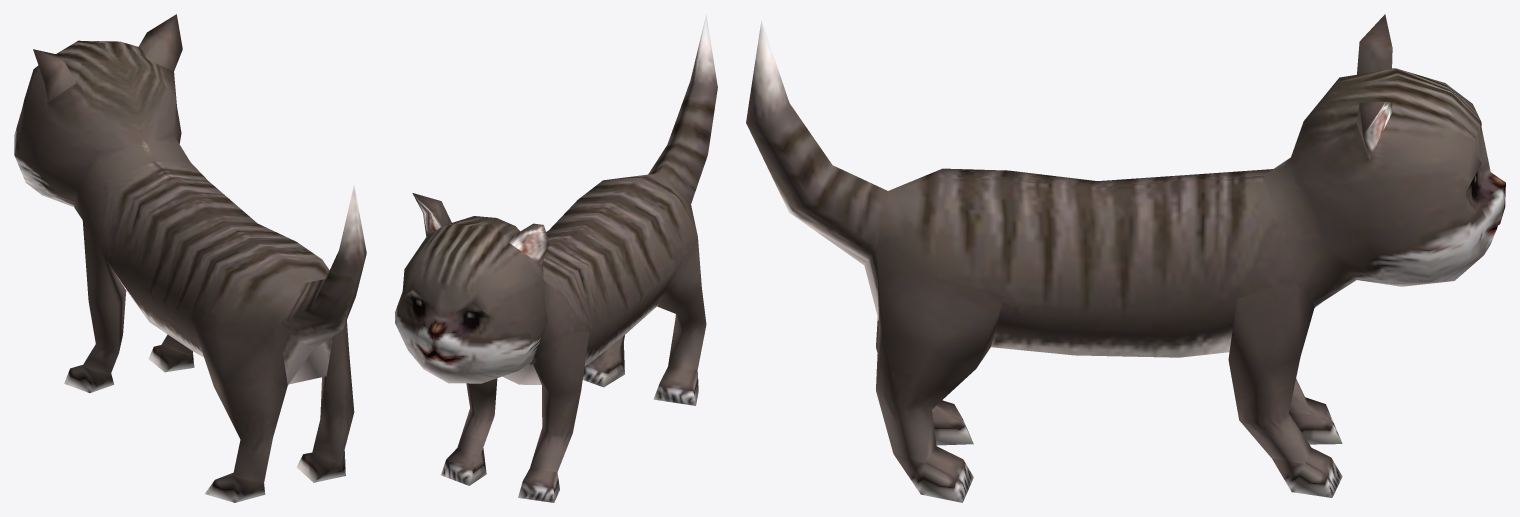
3 views of the same model, side by side, from view 1: azimuth 30°, elevation 25°; view 2: azimuth 150°, elevation 25°; view 3: azimuth 270°, elevation 25° (orthographic). The views are drawn at different scales.
Visible parts, largest first — view 1: Mesh_1209.rip_noesis_meshnode_0000; view 2: Mesh_1209.rip_noesis_meshnode_0000; view 3: Mesh_1209.rip_noesis_meshnode_0000.
Part boxes in pixels (left/top/right/bottom): Mesh_1209.rip_noesis_meshnode_0000: left=14, top=14, right=366, bottom=502; Mesh_1209.rip_noesis_meshnode_0000: left=395, top=15, right=717, bottom=502; Mesh_1209.rip_noesis_meshnode_0000: left=746, top=14, right=1505, bottom=502.
Size of the model in its own units: 0.3023 by 0.6951 by 1.09.
Materials: 1 (1 with a texture image).
